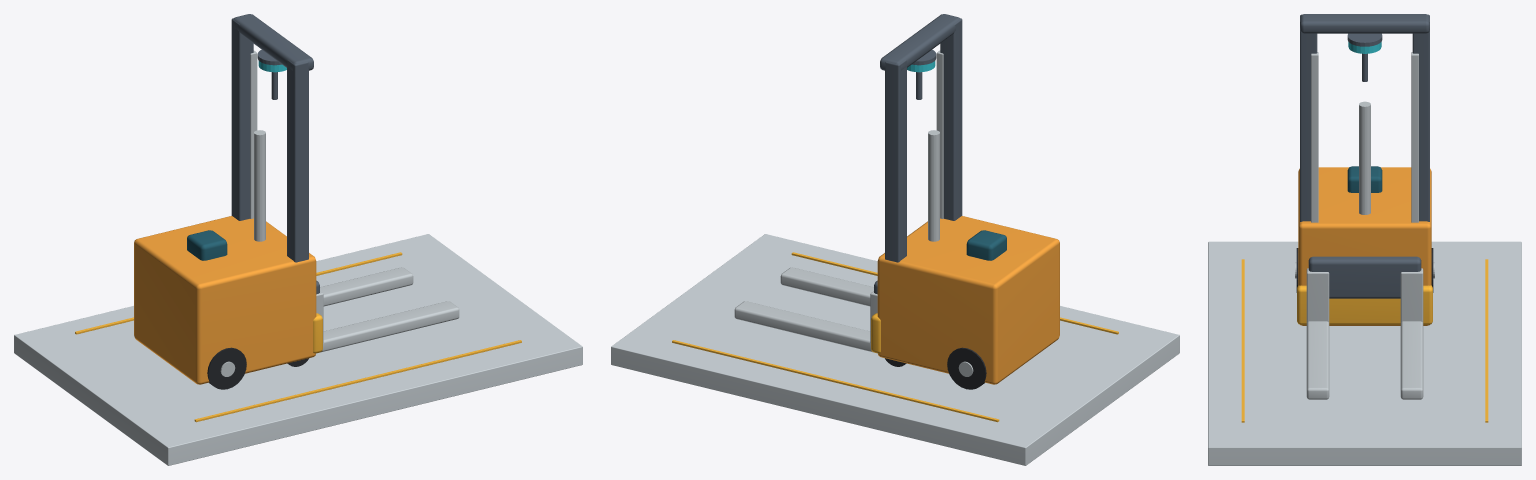
3 renders of one model, left to right at view 1: azimuth 30°, elevation 25°; view 2: azimuth 150°, elevation 25°; view 3: azimuth 270°, elevation 25°, orthographic.
Parts seen in each view (by area): view 1: Ground plane, Power unit, Lift mast outer rail, Lift mast outer rail.001, Fork tine / pallet handling, Fork tine / pallet handling.001, Mast crosshead, Hydraulic lift cylinder, Concept clearance guide, Driven wheel / tyre, Operator display, Lift mast inner rail.001; view 2: Ground plane, Power unit, Lift mast outer rail.001, Lift mast outer rail, Fork tine / pallet handling.001, Fork tine / pallet handling, Mast crosshead, Hydraulic lift cylinder, Concept clearance guide.001, Driven wheel / tyre.001, Operator display, Lift mast inner rail; view 3: Ground plane, Power unit, Fork carriage, Front safety bumper, Mast crosshead, Lift mast outer rail, Lift mast outer rail.001, Fork tine / pallet handling, Fork tine / pallet handling.001, Lift mast inner rail, Lift mast inner rail.001, Hydraulic lift cylinder (+6 smaller).
Part boxes in pixels (bbox=[...]): Ground plane: bbox=[14, 234, 582, 465]; Power unit: bbox=[134, 216, 316, 384]; Lift mast outer rail: bbox=[287, 59, 308, 262]; Lift mast outer rail.001: bbox=[231, 18, 253, 220]; Fork tine / pallet handling: bbox=[320, 301, 459, 352]; Fork tine / pallet handling.001: bbox=[320, 267, 413, 306]; Mast crosshead: bbox=[233, 14, 313, 70]; Hydraulic lift cylinder: bbox=[254, 130, 265, 241]; Concept clearance guide: bbox=[194, 340, 521, 422]; Driven wheel / tyre: bbox=[207, 347, 246, 389]; Operator display: bbox=[187, 230, 227, 260]; Lift mast inner rail.001: bbox=[250, 50, 257, 218]; Ground plane: bbox=[611, 234, 1179, 465]; Power unit: bbox=[877, 216, 1059, 384]; Lift mast outer rail.001: bbox=[885, 59, 906, 262]; Lift mast outer rail: bbox=[940, 18, 962, 220]; Fork tine / pallet handling.001: bbox=[734, 301, 873, 352]; Fork tine / pallet handling: bbox=[780, 267, 873, 306]; Mast crosshead: bbox=[880, 14, 960, 70]; Hydraulic lift cylinder: bbox=[928, 130, 939, 241]; Concept clearance guide.001: bbox=[672, 340, 999, 422]; Driven wheel / tyre.001: bbox=[947, 347, 986, 389]; Operator display: bbox=[966, 230, 1006, 260]; Lift mast inner rail: bbox=[936, 50, 943, 218]; Ground plane: bbox=[1208, 241, 1521, 465]; Power unit: bbox=[1298, 167, 1431, 325]; Fork carriage: bbox=[1308, 256, 1421, 298]; Front safety bumper: bbox=[1297, 285, 1432, 324]; Mast crosshead: bbox=[1300, 14, 1429, 33]; Lift mast outer rail: bbox=[1300, 14, 1317, 221]; Lift mast outer rail.001: bbox=[1412, 14, 1429, 221]; Fork tine / pallet handling: bbox=[1306, 321, 1329, 399]; Fork tine / pallet handling.001: bbox=[1400, 321, 1423, 399]; Lift mast inner rail: bbox=[1311, 52, 1318, 222]; Lift mast inner rail.001: bbox=[1411, 52, 1418, 222]; Hydraulic lift cylinder: bbox=[1359, 101, 1370, 214].
Size of the model in its own units: 2.8 by 2.11 by 1.8.
